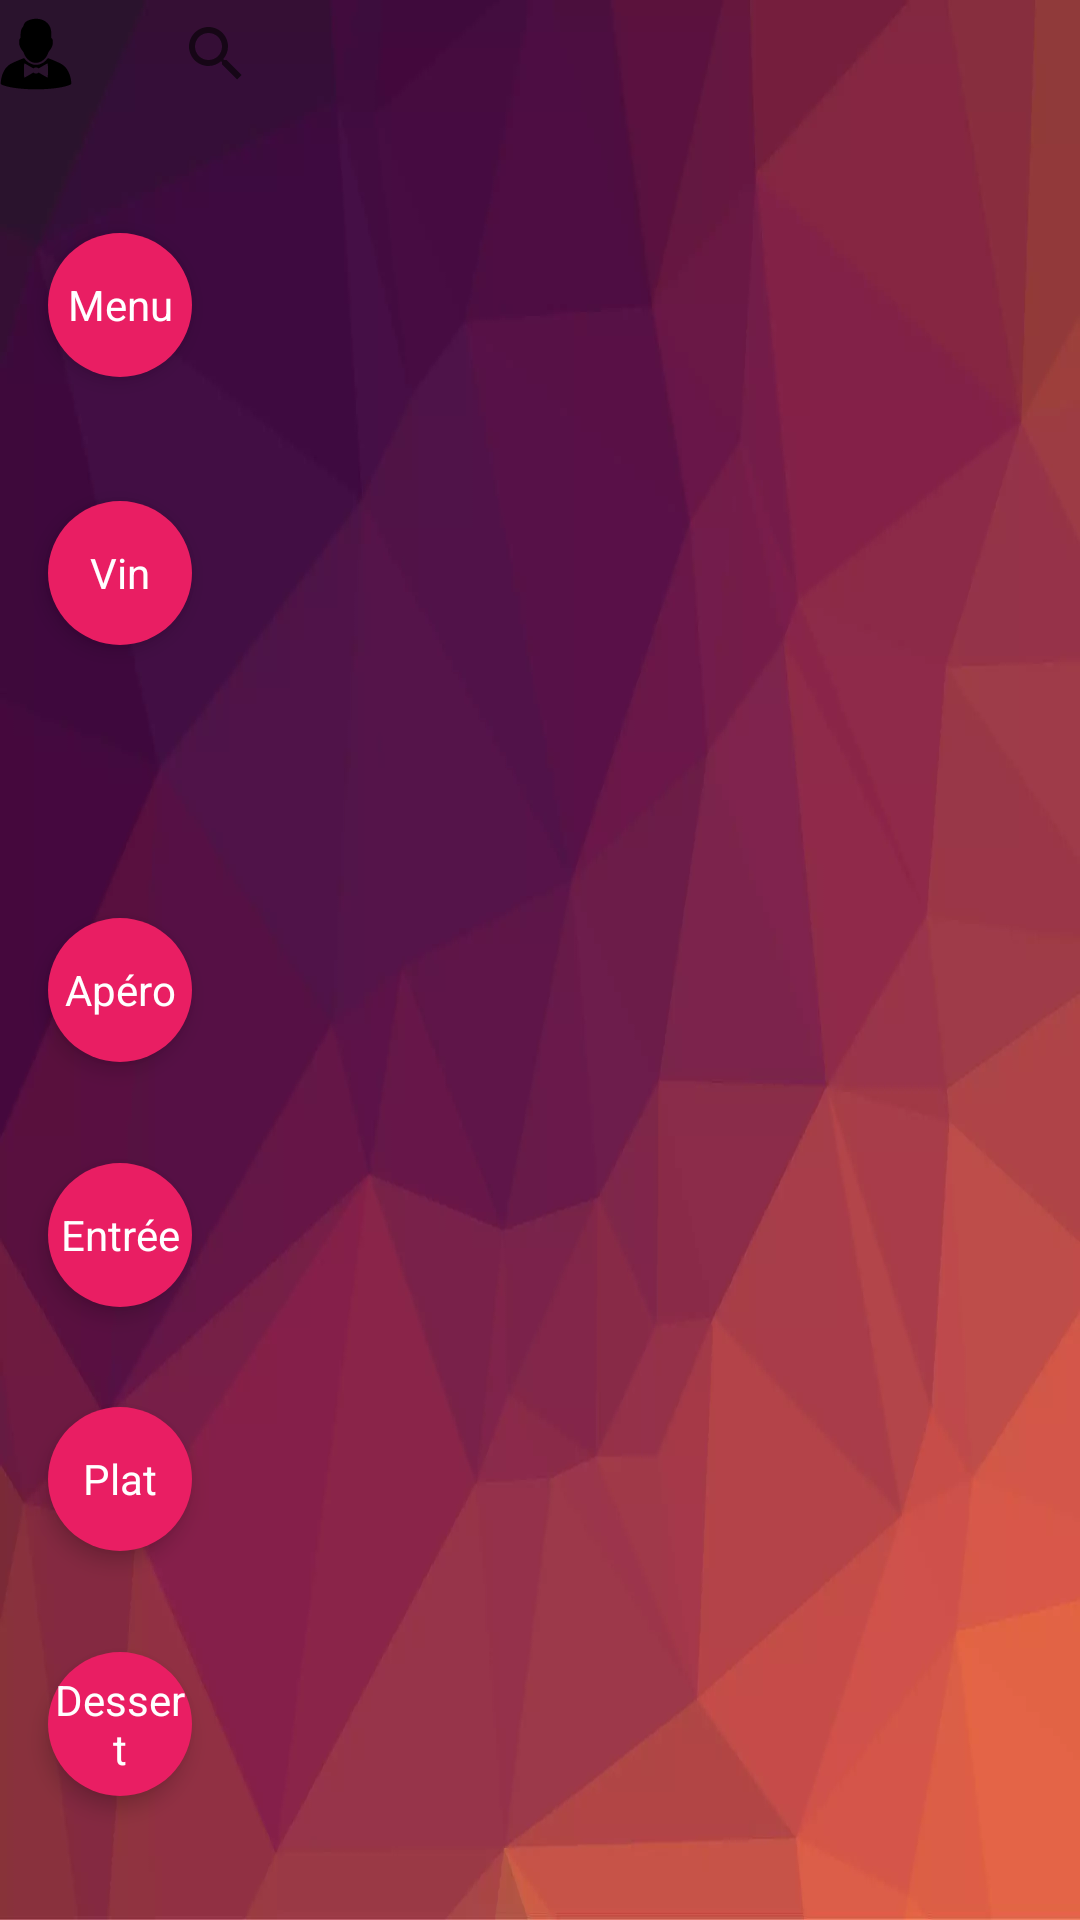

Icon click points for this 1080 x 1920 phone screenshot, format (x=x, y=y):
waiter: (x=36, y=54)
